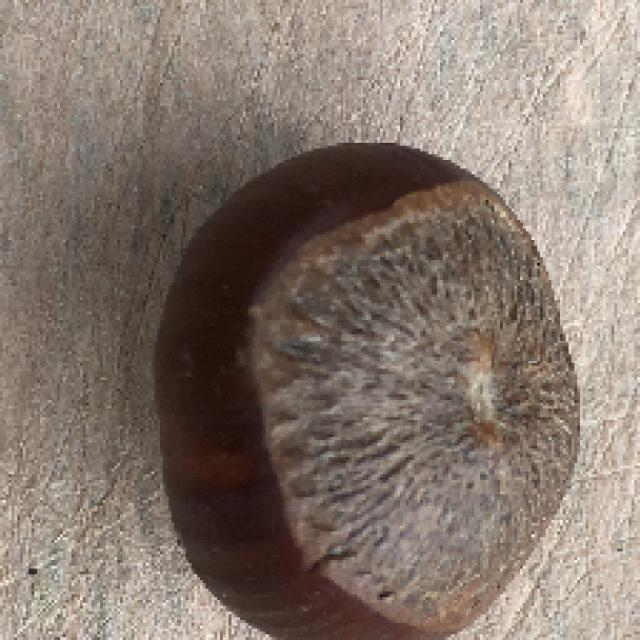qualityHazelnut: (143, 123, 597, 640)
